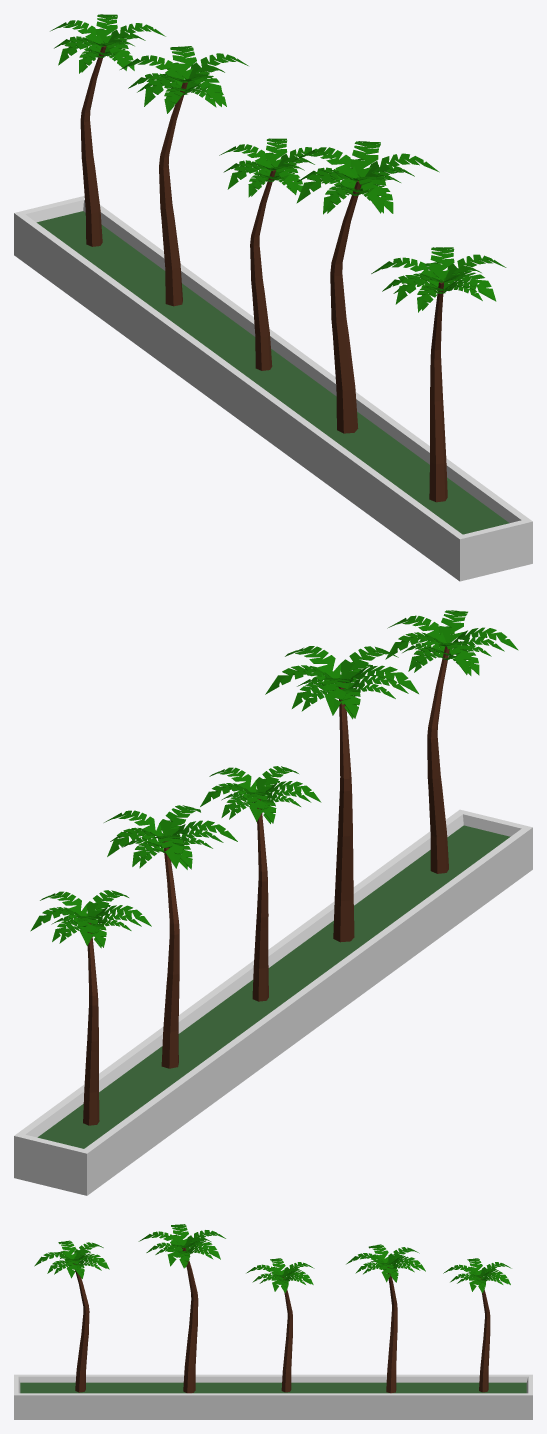
The model's file is canteiro_central.fbx.
The picture shows the model from 3 angles, top to bottom: view 1: azimuth 30°, elevation 25°; view 2: azimuth 150°, elevation 25°; view 3: azimuth 270°, elevation 25°; orthographic projection. The views are drawn at different scales.
Parts seen in each view (by area): view 1: Cylinder.004; view 2: Cylinder.004; view 3: Cylinder.004.
Boxes of the visible parts, x1,y1,x2,y2 form: Cylinder.004: [14, 14, 532, 581]; Cylinder.004: [14, 610, 532, 1195]; Cylinder.004: [14, 1224, 532, 1419].
Size of what is drawn, in the model's own units: 2324 by 4792 by 12889.
